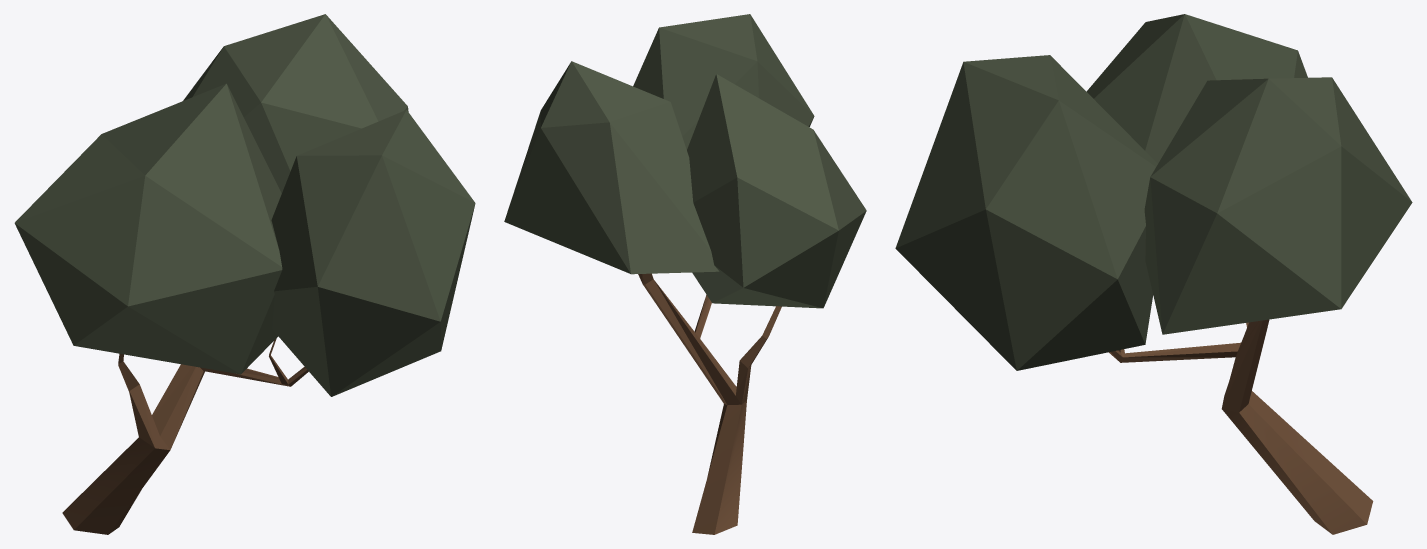
The model's file is Tree_2.fbx.
3 views of the same model, side by side, from view 1: azimuth 30°, elevation 25°; view 2: azimuth 150°, elevation 25°; view 3: azimuth 270°, elevation 25° (orthographic). The views are drawn at different scales.
Parts seen in each view (by area): view 1: Tree3; view 2: Tree3; view 3: Tree3.
Boxes of the visible parts, bbox=[...] form: Tree3: bbox=[14, 14, 475, 534]; Tree3: bbox=[504, 14, 866, 534]; Tree3: bbox=[895, 14, 1412, 534].
Size of the model in its own units: 434 by 543 by 459.
